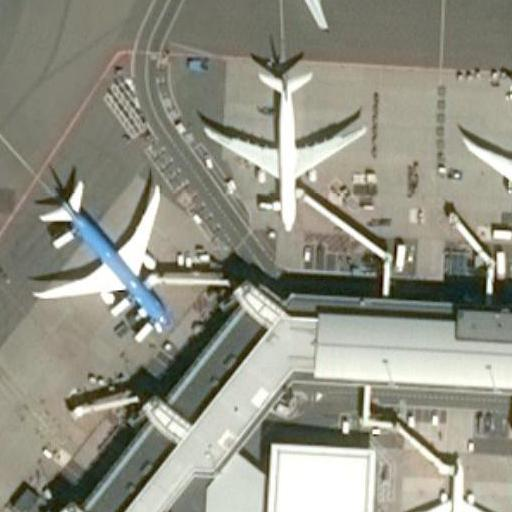Aircraft: (198, 46, 367, 235), (28, 159, 178, 331), (455, 57, 512, 250), (401, 454, 507, 512), (214, 0, 401, 26)
